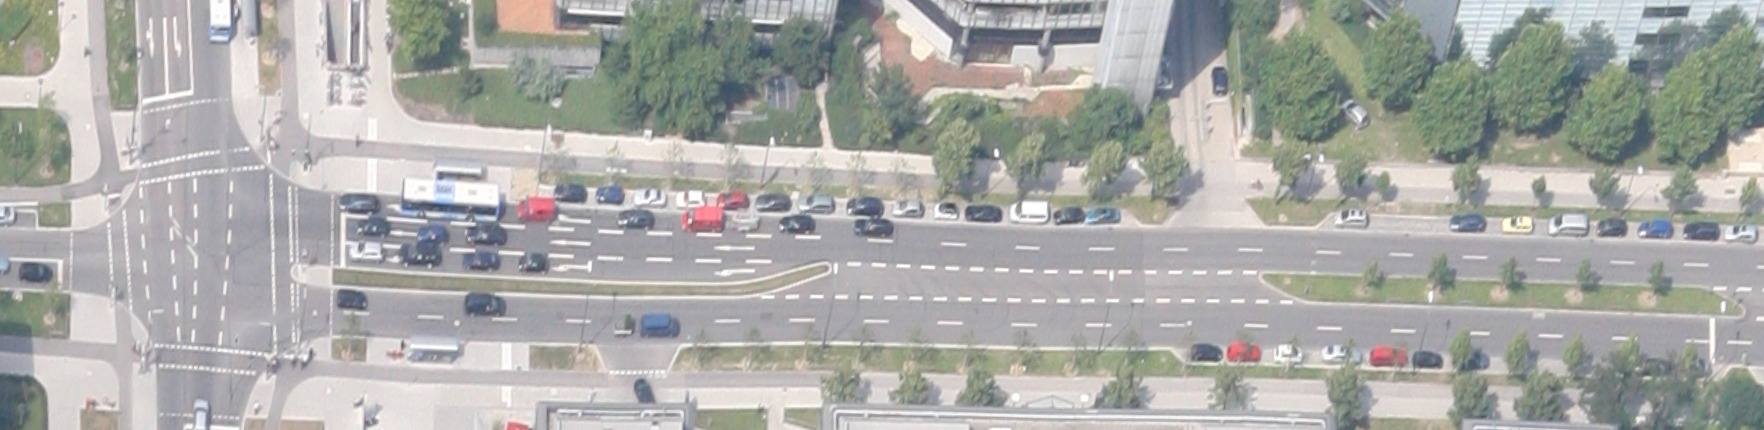car: (398, 241, 440, 267), (1338, 96, 1369, 129), (463, 293, 506, 315), (1548, 212, 1586, 236), (640, 313, 679, 337), (681, 208, 720, 231), (517, 197, 555, 221), (1010, 199, 1046, 223), (853, 216, 892, 236), (465, 225, 506, 244), (462, 249, 499, 270), (337, 192, 378, 212), (349, 240, 382, 262), (1322, 343, 1361, 362), (631, 376, 655, 407), (616, 208, 652, 229), (846, 196, 882, 216), (355, 216, 389, 238), (17, 262, 52, 283), (1683, 220, 1718, 240), (778, 214, 814, 233), (1449, 213, 1484, 232), (1723, 222, 1756, 242), (336, 288, 367, 310), (1370, 347, 1406, 365), (1190, 341, 1222, 361), (1636, 220, 1671, 238), (798, 194, 832, 212), (1334, 208, 1367, 227), (553, 182, 585, 201), (1084, 206, 1119, 223), (1596, 217, 1624, 238), (1227, 343, 1259, 361), (715, 191, 747, 209), (1053, 205, 1082, 224), (756, 194, 789, 210), (965, 205, 1000, 221), (517, 256, 548, 274), (1412, 350, 1442, 368), (1502, 215, 1532, 233), (634, 187, 665, 205), (595, 185, 623, 204), (893, 199, 922, 217), (418, 224, 445, 243), (1273, 344, 1302, 362), (730, 212, 757, 230), (676, 189, 703, 207), (1212, 66, 1228, 95), (933, 200, 957, 218), (612, 317, 634, 335)
